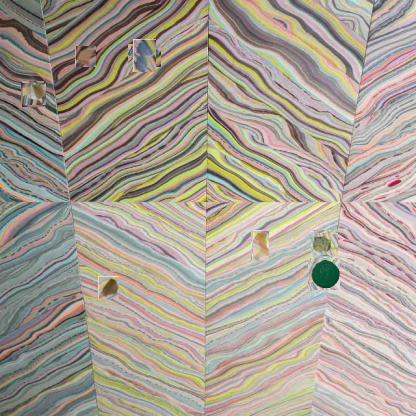dirty: (308, 258, 340, 290), (312, 231, 336, 257), (21, 82, 45, 106), (98, 276, 119, 299), (75, 45, 96, 67)
liquid: (130, 42, 158, 70), (252, 230, 270, 261)
